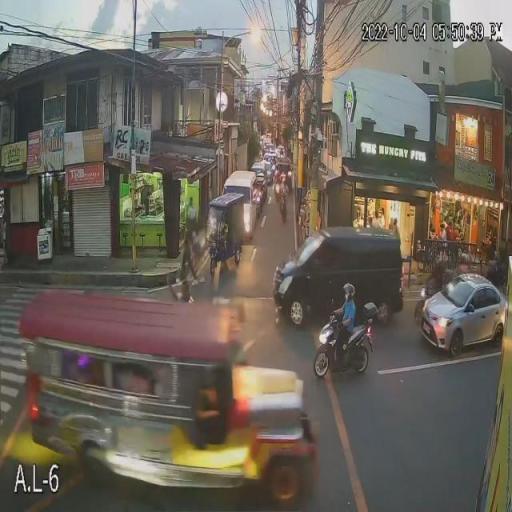helmet: (343, 282, 355, 296)
motorcycle: (312, 302, 378, 379), (275, 181, 287, 222), (252, 180, 265, 216)
rider: (330, 282, 358, 358), (252, 180, 262, 205), (278, 186, 287, 213)
